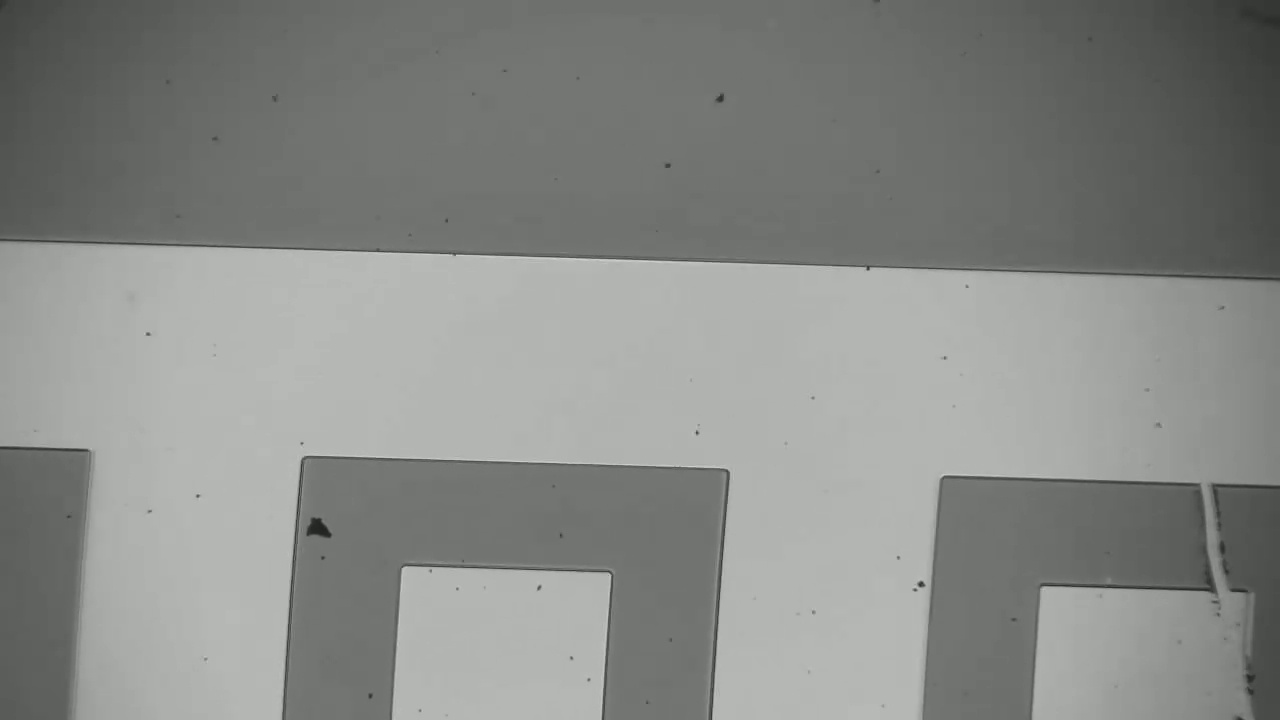Short_circuit: (1159, 467, 1253, 610)
